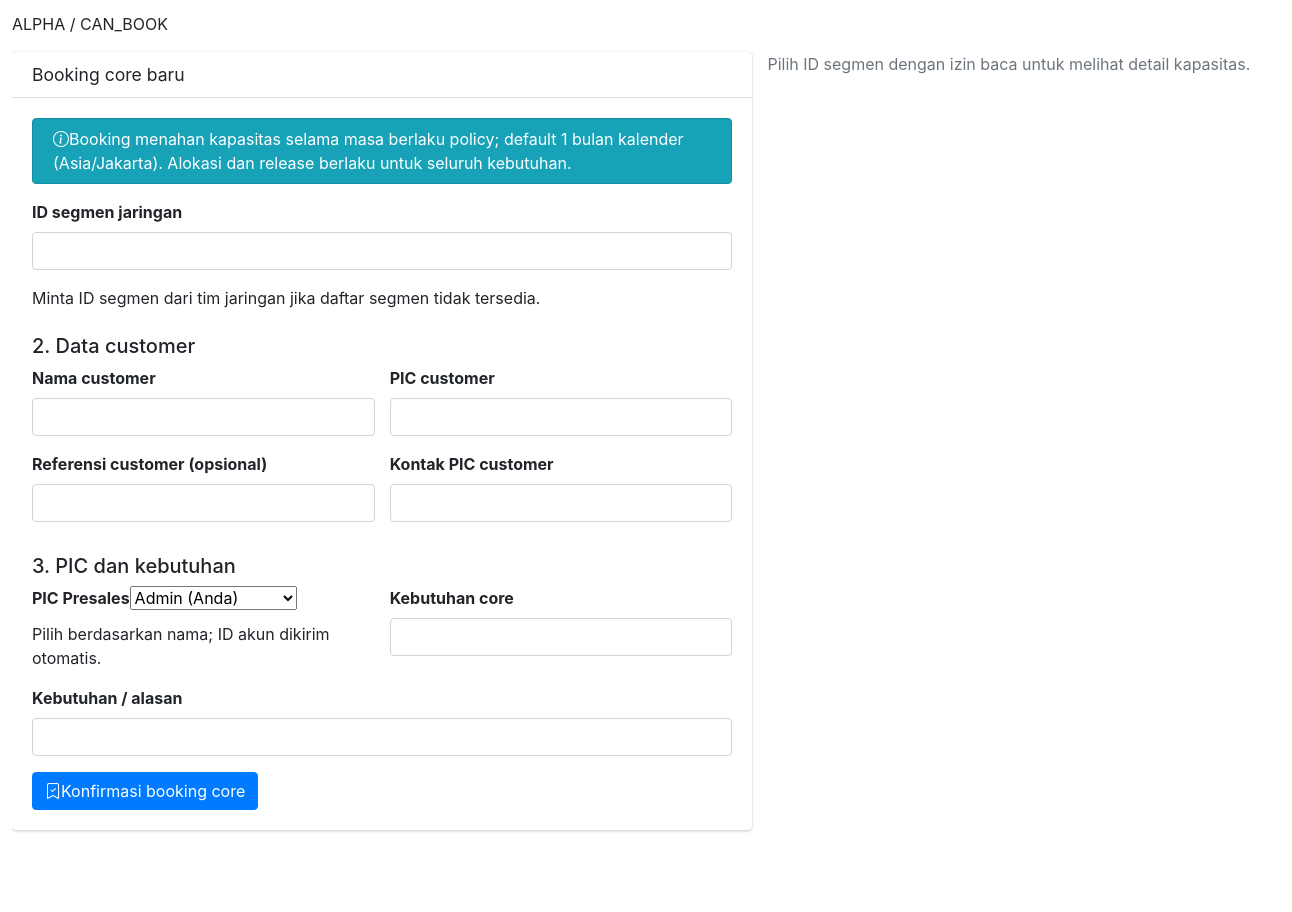
Test: operational API interactions › booking errors never show success; unchanged retry retains idempotency key
Type "cccccccc-cccc-cccc-cccc-cccccccccccc" into the field labelled "ID segmen jaringan". click: (382, 251)
box: x1=32 y1=232 x2=732 y2=270
Type "Fixture only" into the field labelled "Nama customer". click: (203, 417)
box: x1=32 y1=398 x2=375 y2=436
Type "Fixture only" into the field labelled "PIC customer". click: (561, 417)
box: x1=390 y1=398 x2=732 y2=436
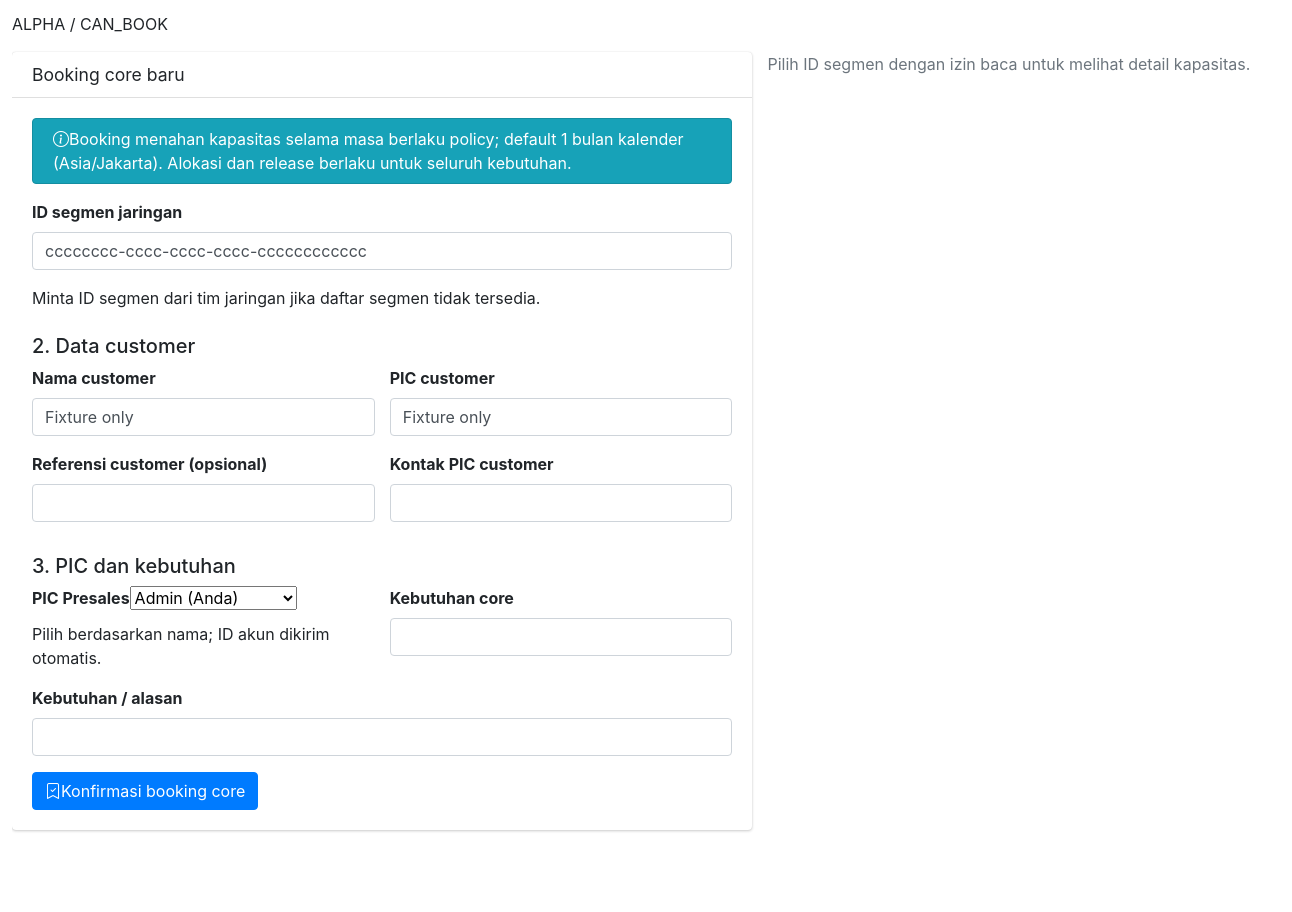
Type "Fixture only" into the field labelled "Kontak PIC customer". click: (561, 503)
box: x1=390 y1=484 x2=732 y2=522
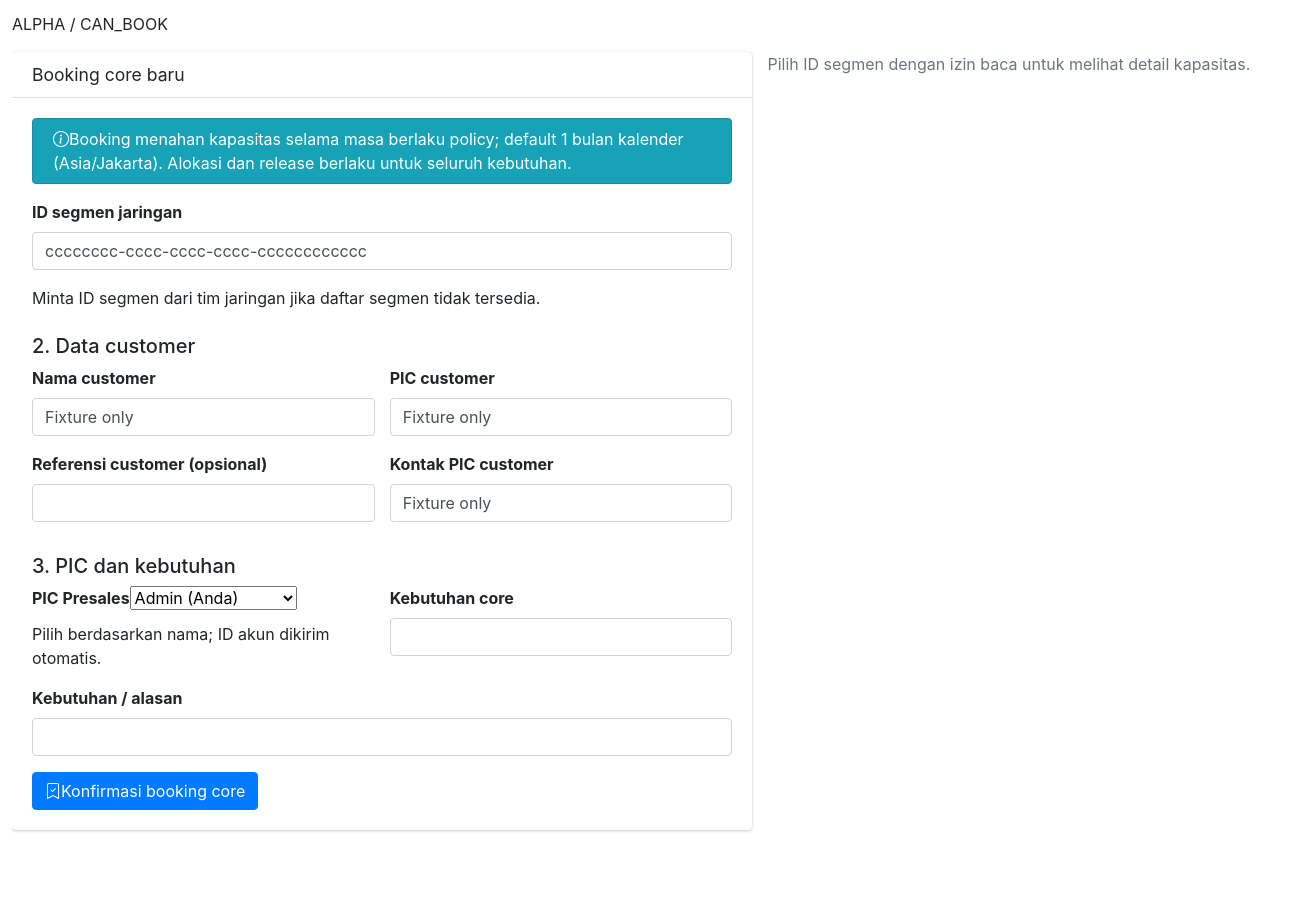
Type "Fixture only" into the field labelled "Kebutuhan / alasan". click: (382, 737)
box: x1=32 y1=718 x2=732 y2=756
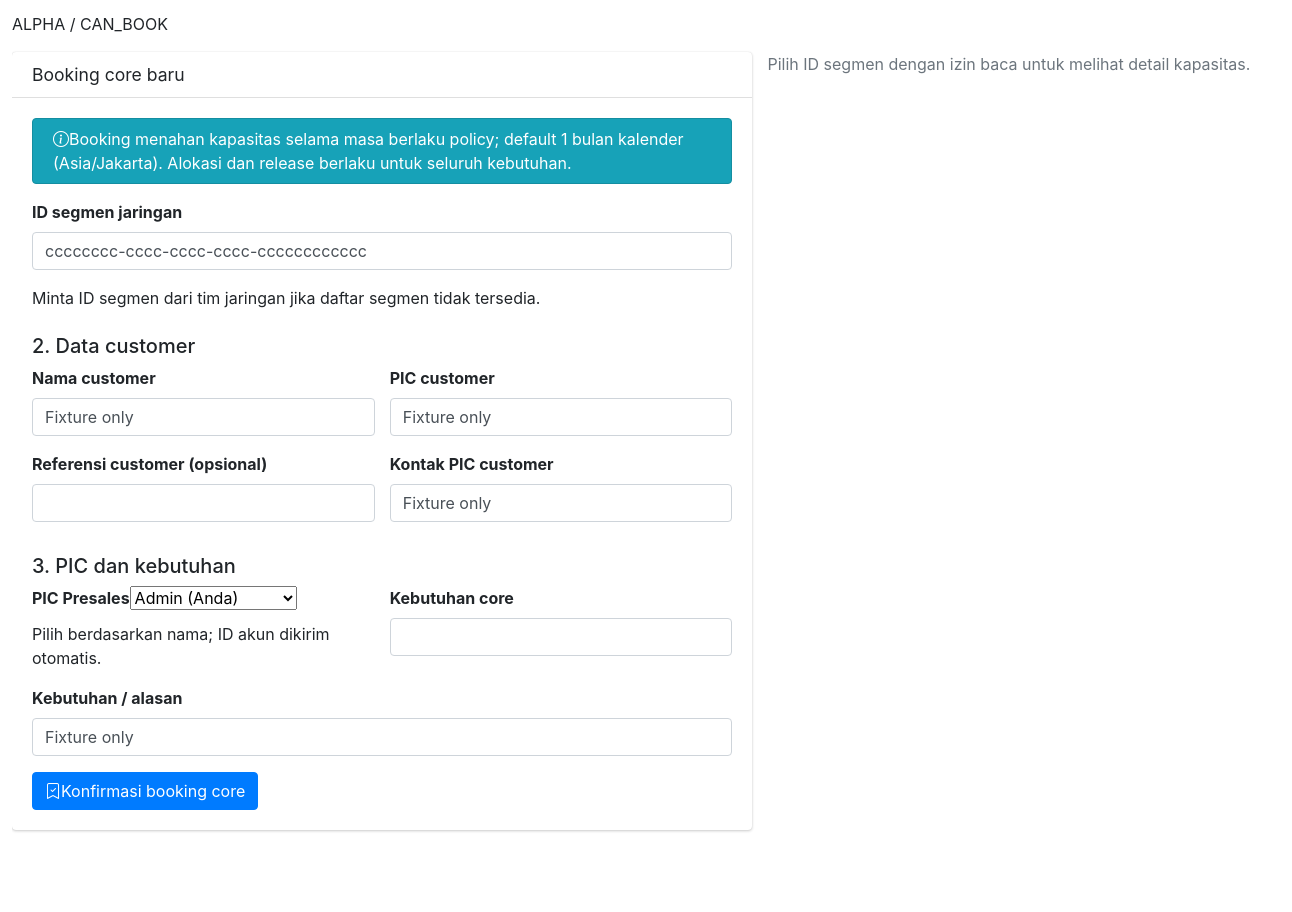
Type "2" into the number field labelled "Kebutuhan core". click: (561, 637)
box: x1=390 y1=618 x2=732 y2=656
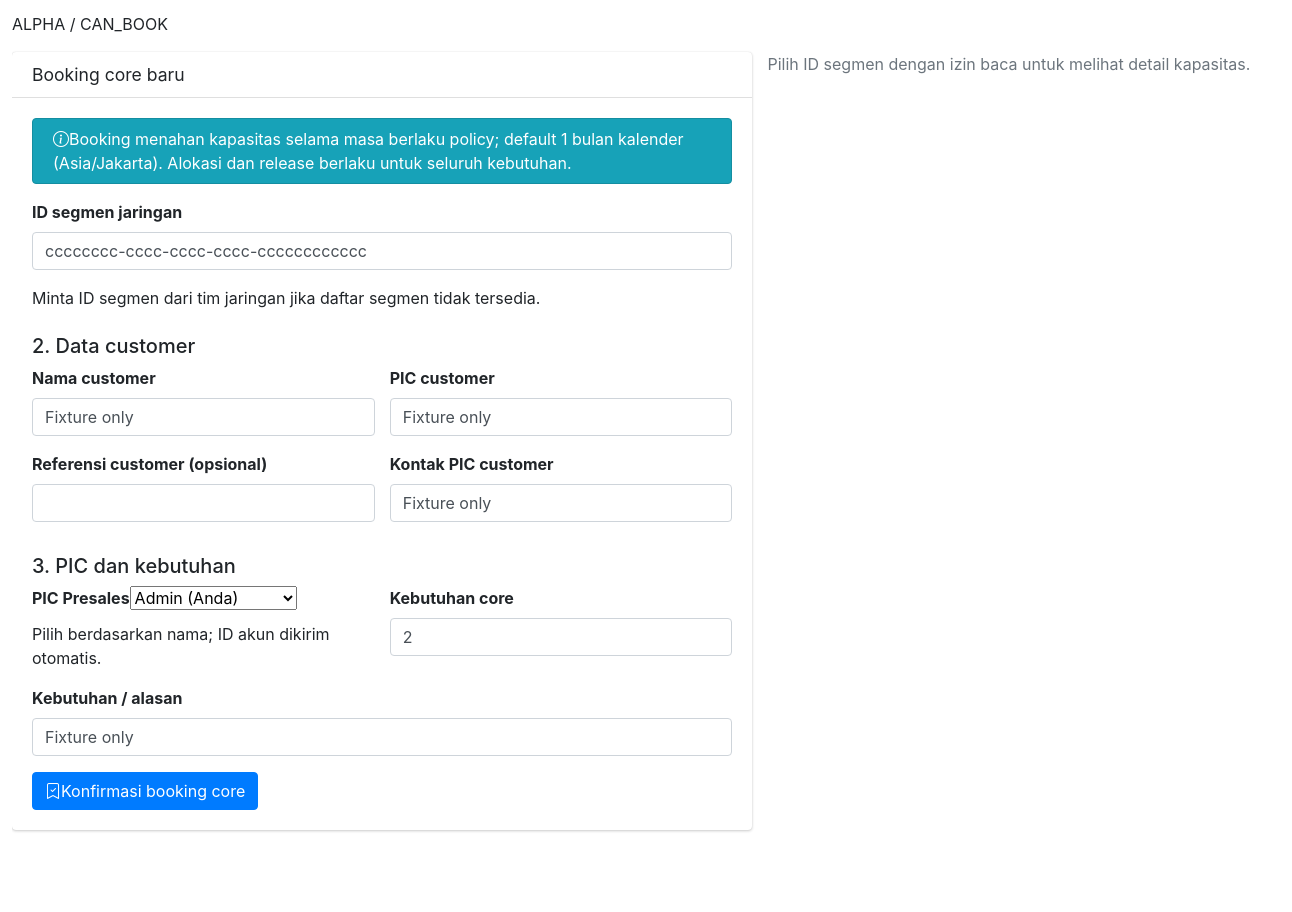
Click the button "Konfirmasi booking core". click: (145, 791)
box: x1=32 y1=772 x2=258 y2=810
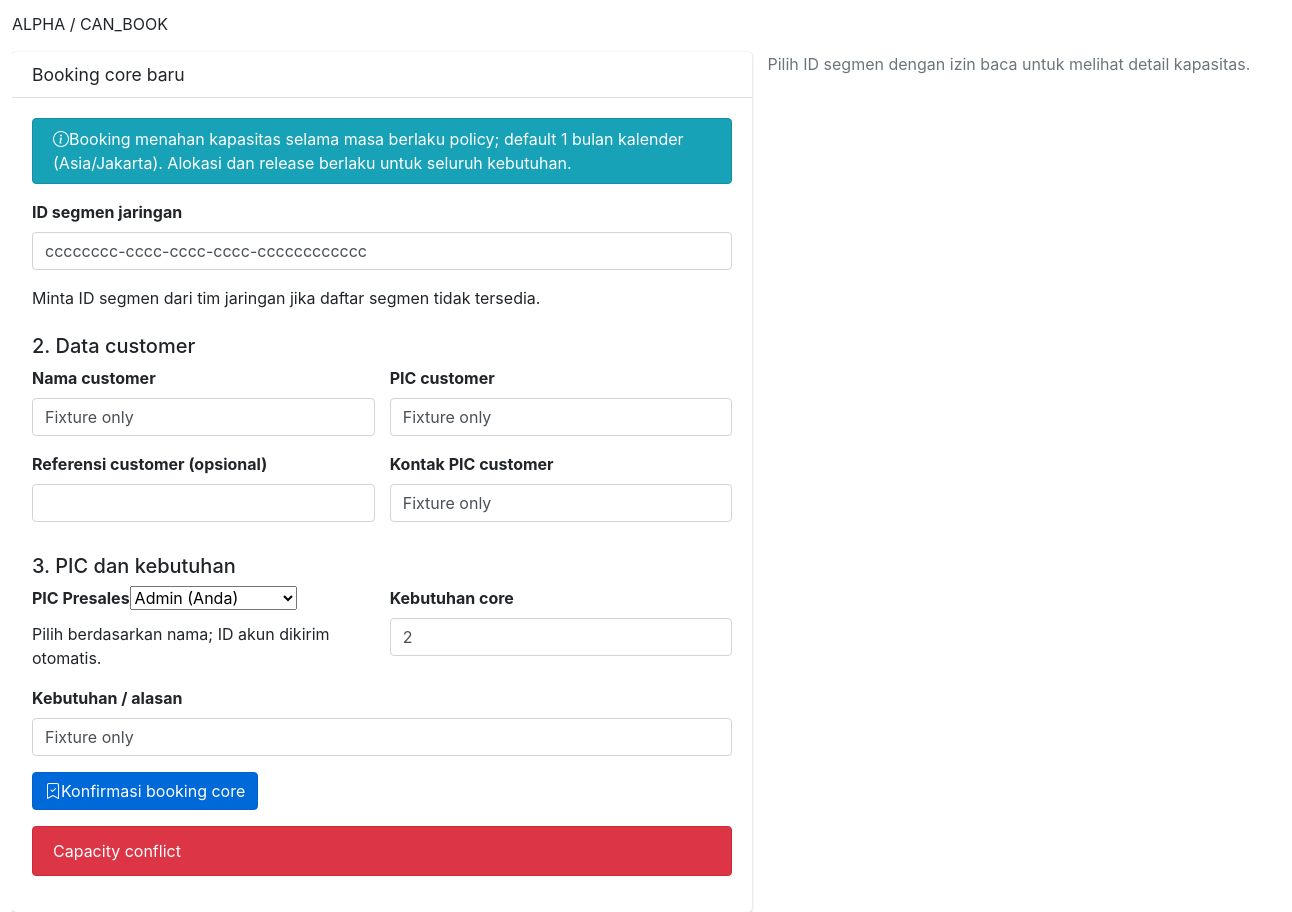
Check: the text "Capacity conflict" is shown, box x1=32 y1=826 x2=732 y2=876
Click the button "Konfirmasi booking core". click: (145, 791)
box: x1=32 y1=772 x2=258 y2=810
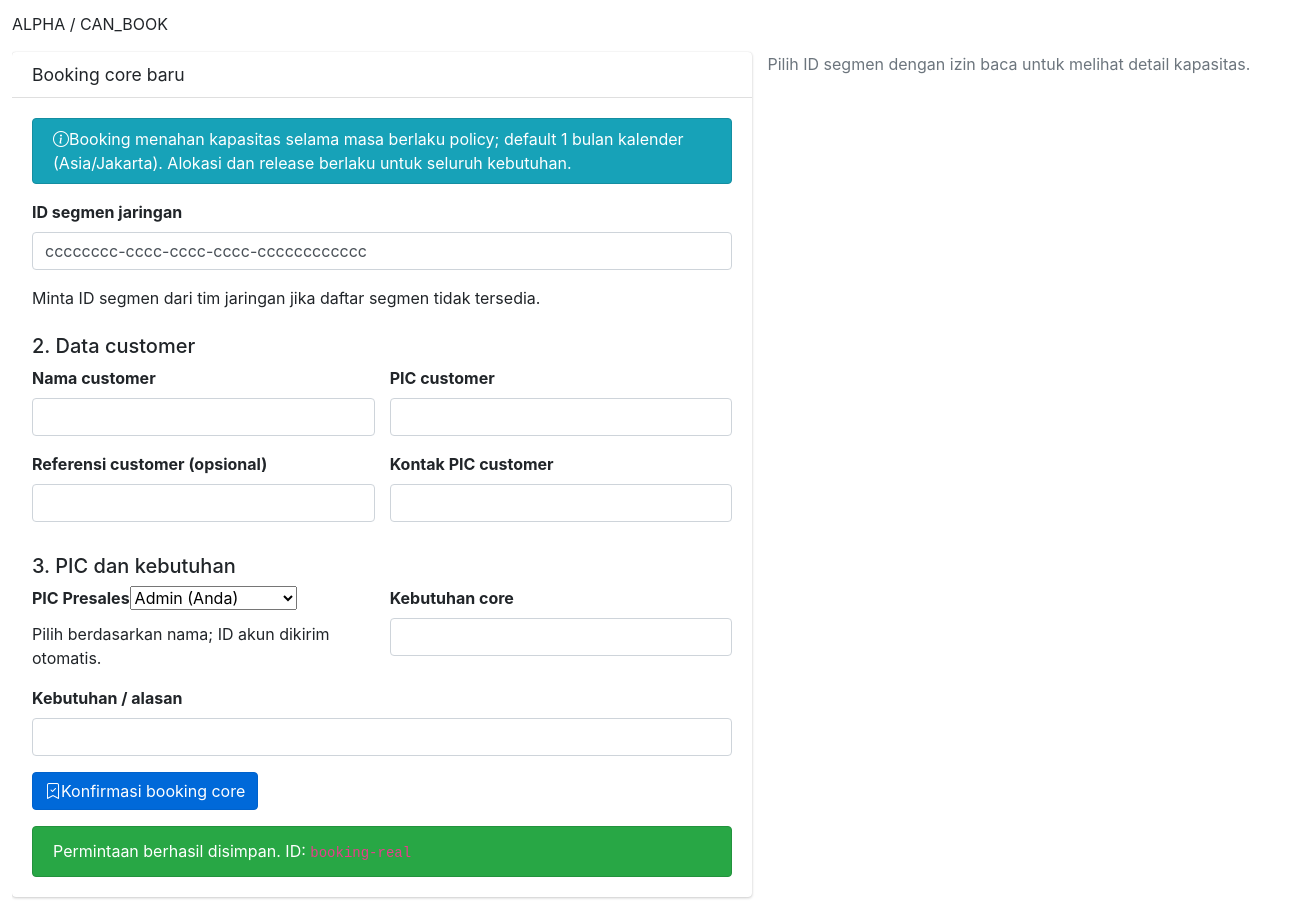
Check: the text "booking-real" is shown, box x1=310 y1=845 x2=411 y2=861
